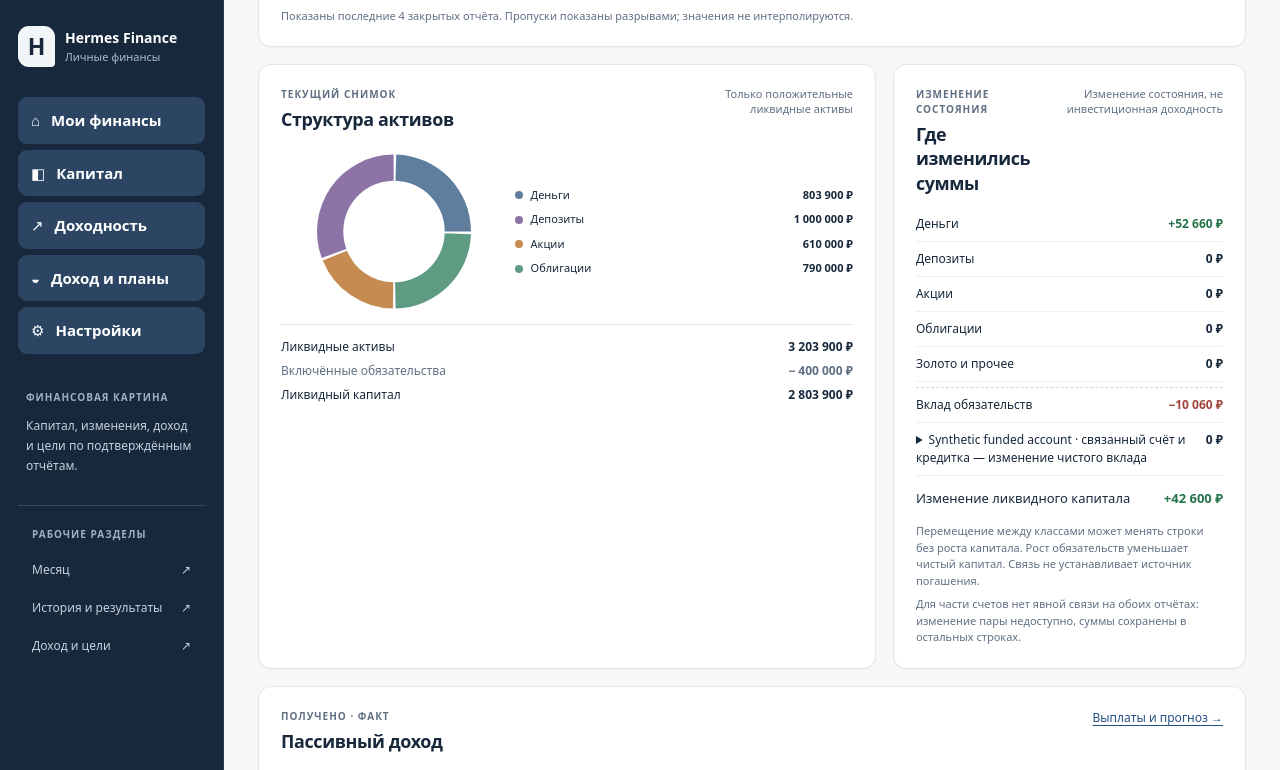
Test: renders a backend pair once, with gross endpoints and a zero net delta
(page scrolled)
Check: the list item "Synthetic funded account · связанный счёт" shows "0 ₽", box [1206,431,1223,448]
Click the heading "Synthetic funded account · связанный счёт" at (1054, 449), box [916,431,1192,467]
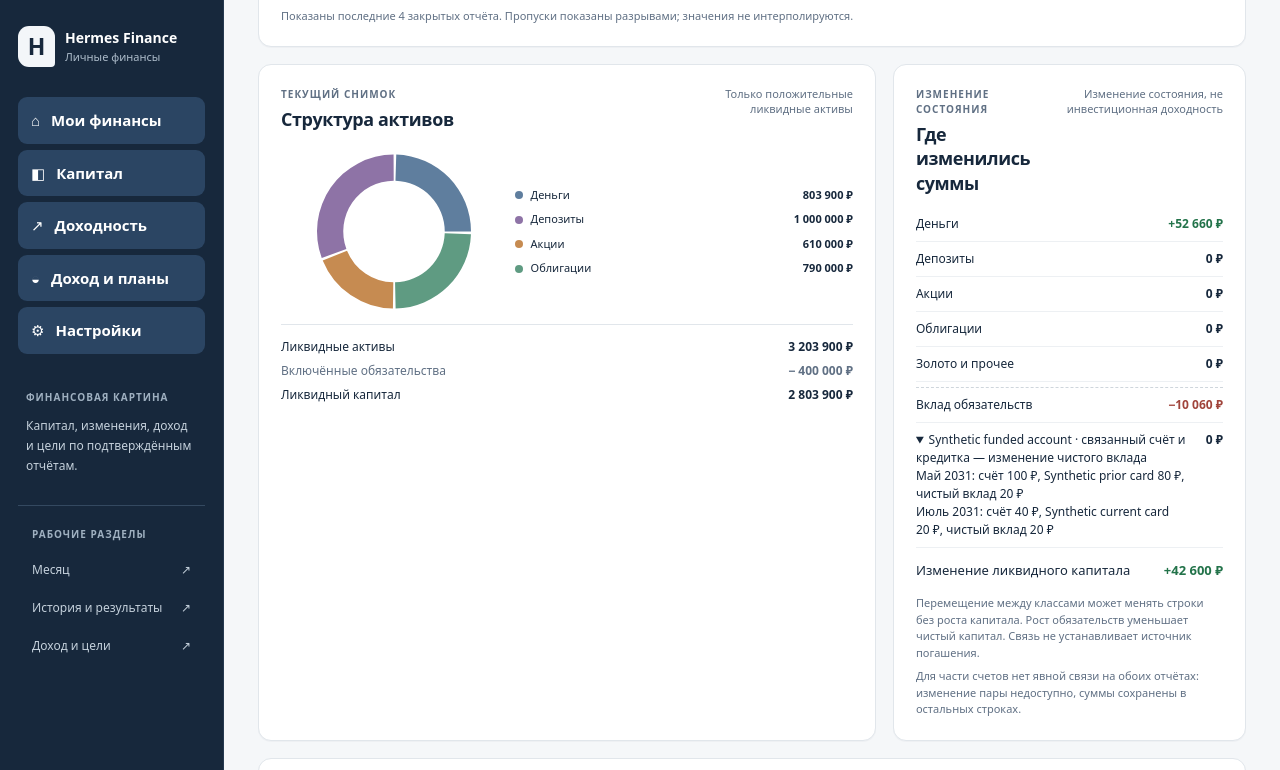
Check: the text "Для части счетов нет явной связи" is shown, box [916,668,1199,716]
Check: the text "Synthetic prior card" shows "счёт 100 ₽", box [916,467,1192,503]
Check: the text "Synthetic current card" shows "счёт 40 ₽", box [916,503,1192,539]
